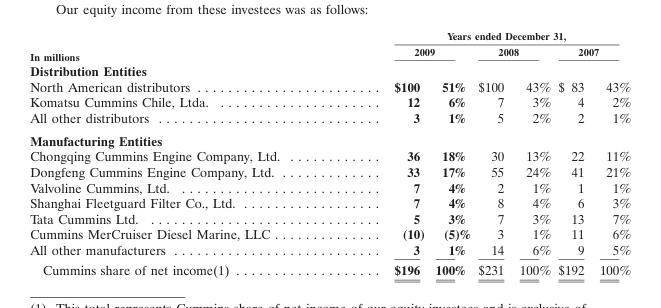table: (29, 29, 630, 277)
table column: (29, 29, 336, 277), (336, 29, 429, 277), (429, 29, 473, 277), (511, 29, 553, 277), (591, 29, 630, 277), (473, 29, 511, 277), (553, 29, 591, 277)
table column header: (29, 29, 630, 62)
table projected row header: (29, 128, 630, 148), (29, 62, 630, 78)
table row: (29, 128, 630, 148), (29, 43, 630, 62), (29, 109, 630, 128), (29, 241, 630, 259), (29, 259, 630, 277), (29, 62, 630, 78), (29, 93, 630, 109), (29, 163, 630, 179), (29, 194, 630, 210), (29, 225, 630, 241), (29, 78, 630, 93), (29, 148, 630, 163), (29, 179, 630, 194), (29, 210, 630, 225), (29, 29, 630, 43)
table spanning cell: (29, 29, 336, 62), (336, 29, 630, 43), (336, 43, 473, 62), (473, 43, 553, 62), (553, 43, 630, 62)
